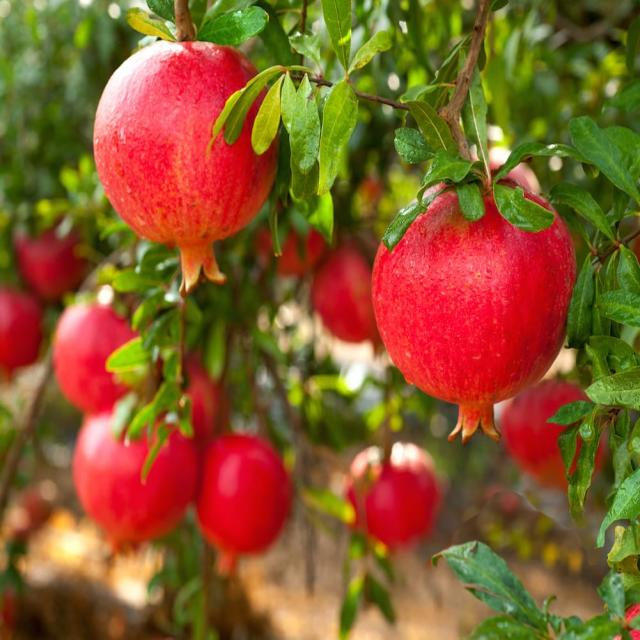Pomegranate: (94, 40, 278, 291), (372, 190, 575, 407), (72, 410, 198, 549), (198, 435, 292, 574), (54, 302, 136, 414)
